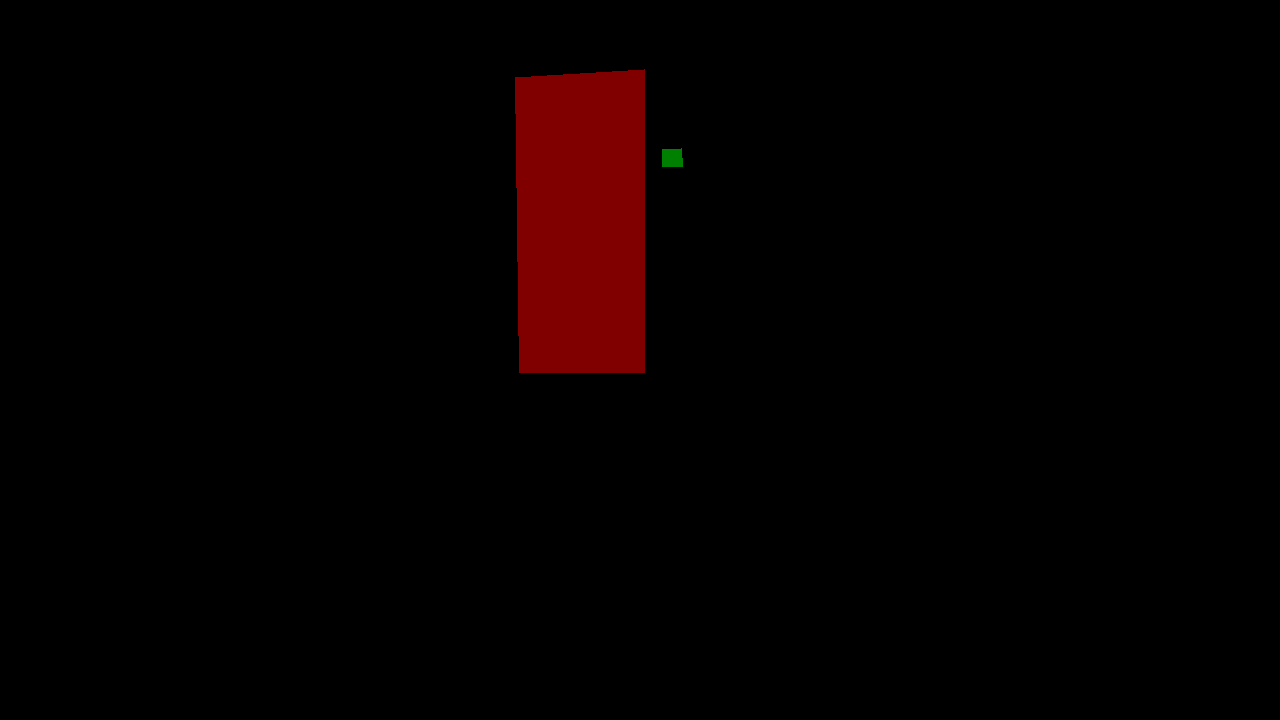door: (515, 69, 644, 372)
sign: (662, 148, 682, 166)
